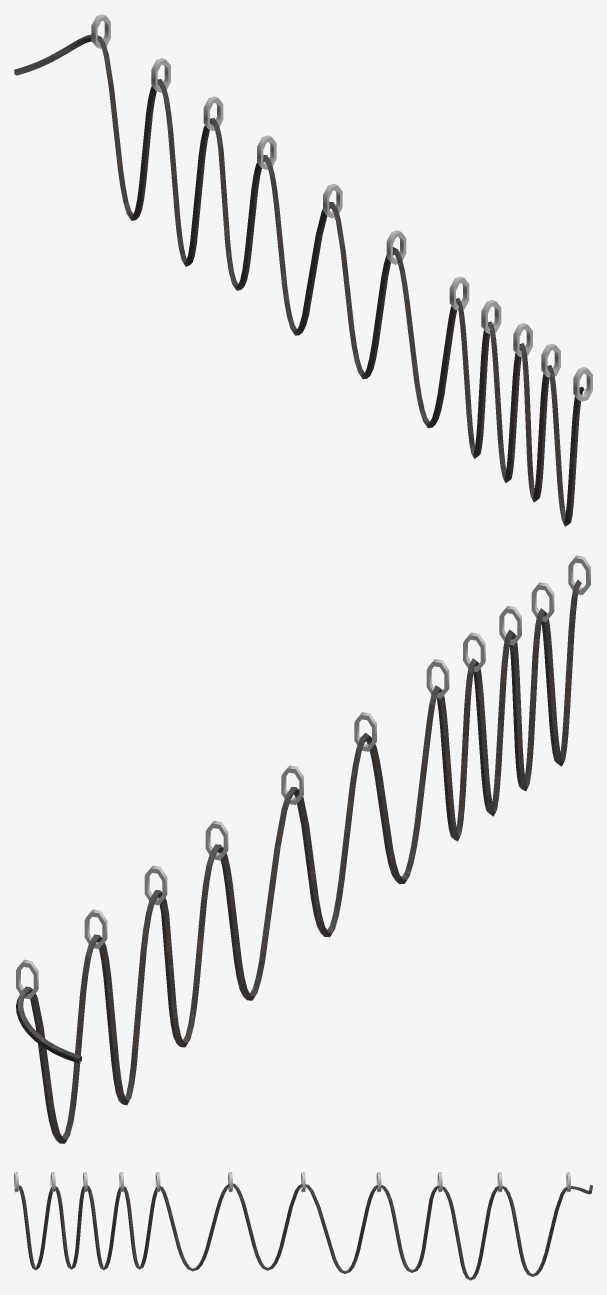
Rendered from sm_CraneMain_Cable_01_01.fbx.
The picture shows the model from 3 angles, top to bottom: view 1: azimuth 30°, elevation 25°; view 2: azimuth 150°, elevation 25°; view 3: azimuth 270°, elevation 25°; orthographic projection. The views are drawn at different scales.
Parts seen in each view (by area): view 1: sm_CraneMain_Cable_01_01_LOD0; view 2: sm_CraneMain_Cable_01_01_LOD0; view 3: sm_CraneMain_Cable_01_01_LOD0.
Part boxes in pixels (bbox=[...]): sm_CraneMain_Cable_01_01_LOD0: bbox=[14, 14, 592, 526]; sm_CraneMain_Cable_01_01_LOD0: bbox=[16, 555, 590, 1143]; sm_CraneMain_Cable_01_01_LOD0: bbox=[14, 1172, 592, 1280].
Size of the model in its own units: 21.45 by 249 by 51.15.
